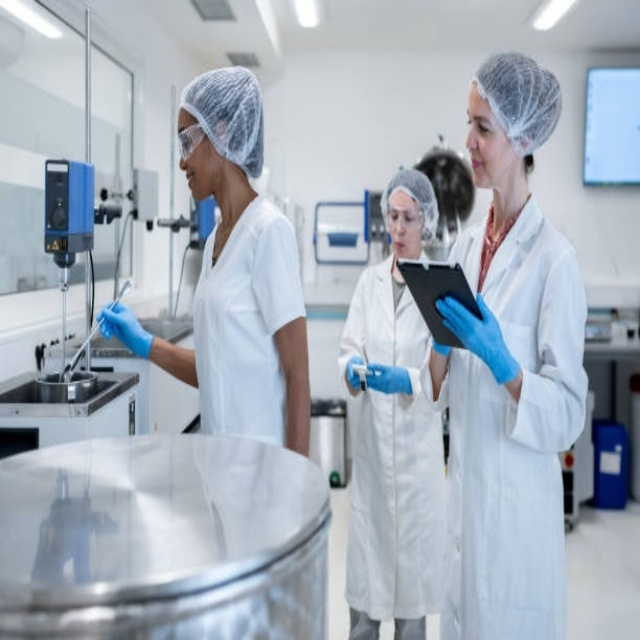Gafas: (177, 124, 208, 160), (386, 208, 423, 229)
Guantes: (436, 285, 521, 391), (94, 300, 157, 365), (346, 350, 412, 408)
Sin_gafas: (463, 102, 494, 136)
Sin_mascara: (182, 165, 205, 199), (470, 152, 490, 184), (391, 235, 411, 257)
